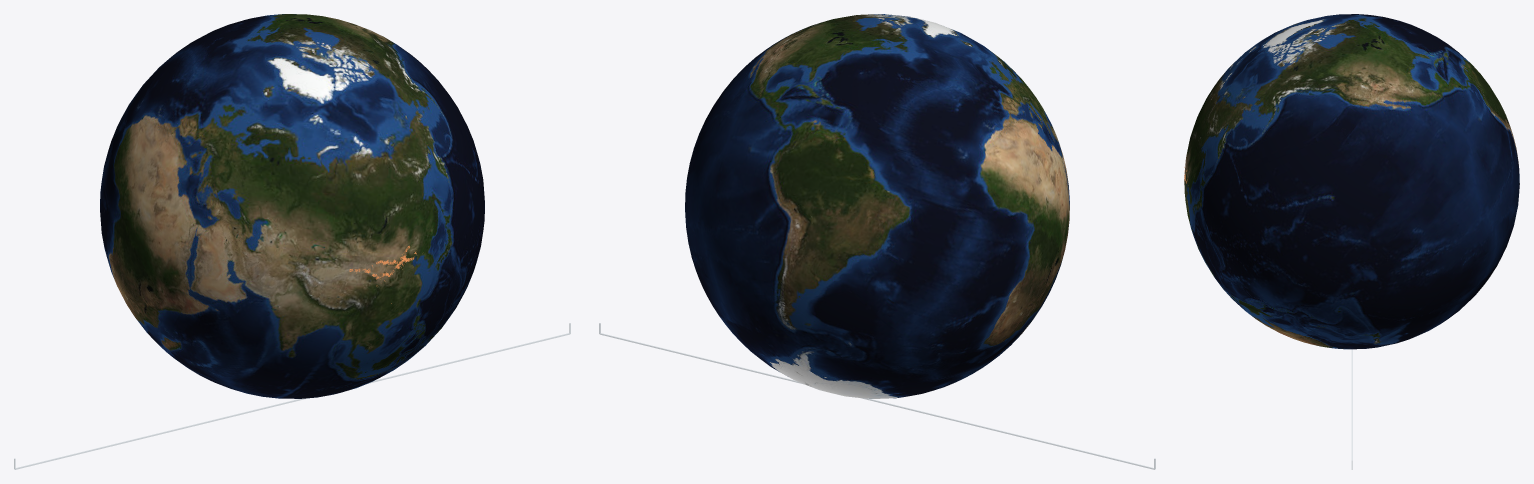
The model's file is great-wall-network-globe.glb.
3 views of the same model, side by side, from view 1: azimuth 30°, elevation 25°; view 2: azimuth 150°, elevation 25°; view 3: azimuth 270°, elevation 25° (orthographic). The views are drawn at different scales.
Parts seen in each view (by area): view 1: Earth, Straightened total-length reference; view 2: Earth, Straightened total-length reference; view 3: Earth.
Part boxes in pixels (bbox=[...]): Earth: bbox=[100, 14, 484, 398]; Straightened total-length reference: bbox=[15, 333, 570, 469]; Earth: bbox=[685, 14, 1069, 398]; Straightened total-length reference: bbox=[599, 333, 1154, 469]; Earth: bbox=[1184, 14, 1519, 349].
Bounding box in the file's own units: 21239 × 13502 × 12746.
Materials: 3 (1 with a texture image).
